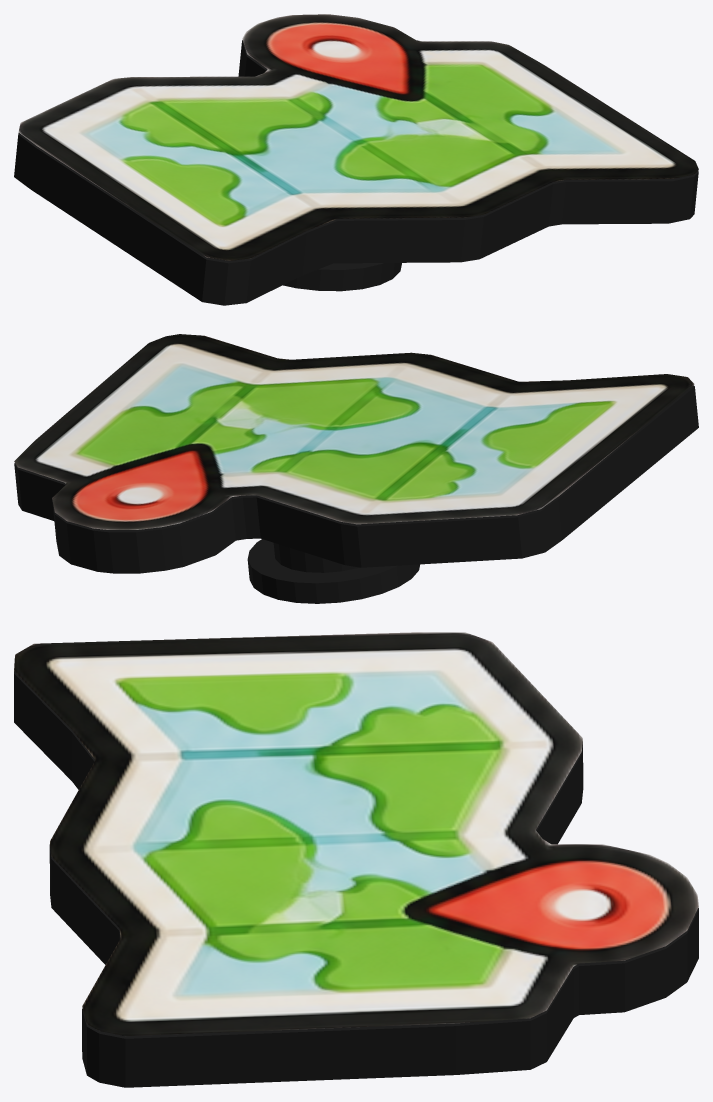
The model's file is travel-travel-map.glb.
3 renders of one model, top to bottom at view 1: azimuth 30°, elevation 25°; view 2: azimuth 150°, elevation 25°; view 3: azimuth 270°, elevation 25°, orthographic. The views are drawn at different scales.
Parts seen in each view (by area): view 1: TRAVEL_Travel_Map_MODEL; view 2: TRAVEL_Travel_Map_MODEL; view 3: TRAVEL_Travel_Map_MODEL.
Part boxes in pixels (x1,y1,x2,y2): TRAVEL_Travel_Map_MODEL: (14, 14, 698, 305); TRAVEL_Travel_Map_MODEL: (14, 334, 698, 603); TRAVEL_Travel_Map_MODEL: (14, 632, 698, 1087).
Bounding box in the file's own units: 0.3494 × 0.101 × 0.3053.
Materials: 3 (1 with a texture image).
